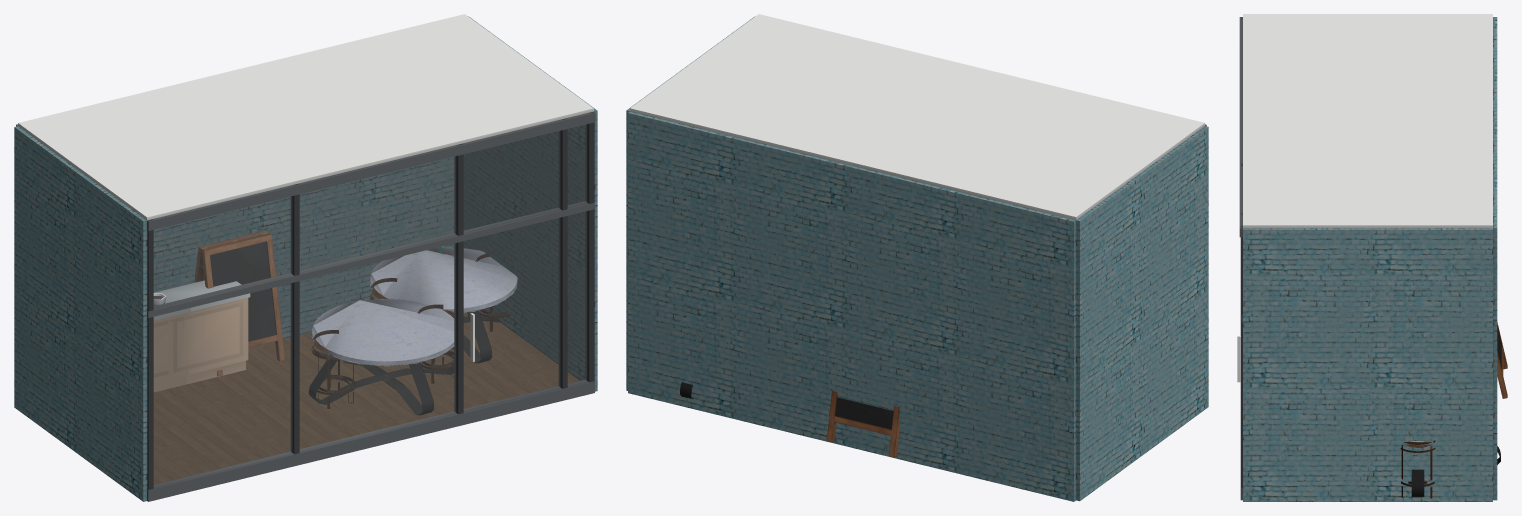
Rendered from shop_cafe.glb.
The picture shows the model from 3 angles, left to right: view 1: azimuth 30°, elevation 25°; view 2: azimuth 150°, elevation 25°; view 3: azimuth 270°, elevation 25°; orthographic projection. The views are drawn at different scales.
Parts seen in each view (by area): view 1: body; view 2: body; view 3: body.
Part boxes in pixels (x1,y1,x2,y2): body: (14,14,597,501); body: (626,14,1208,501); body: (1237,14,1507,501).
Size of the model in its own units: 6.24 by 3.64 by 3.25.
19 materials, 13 textured.
